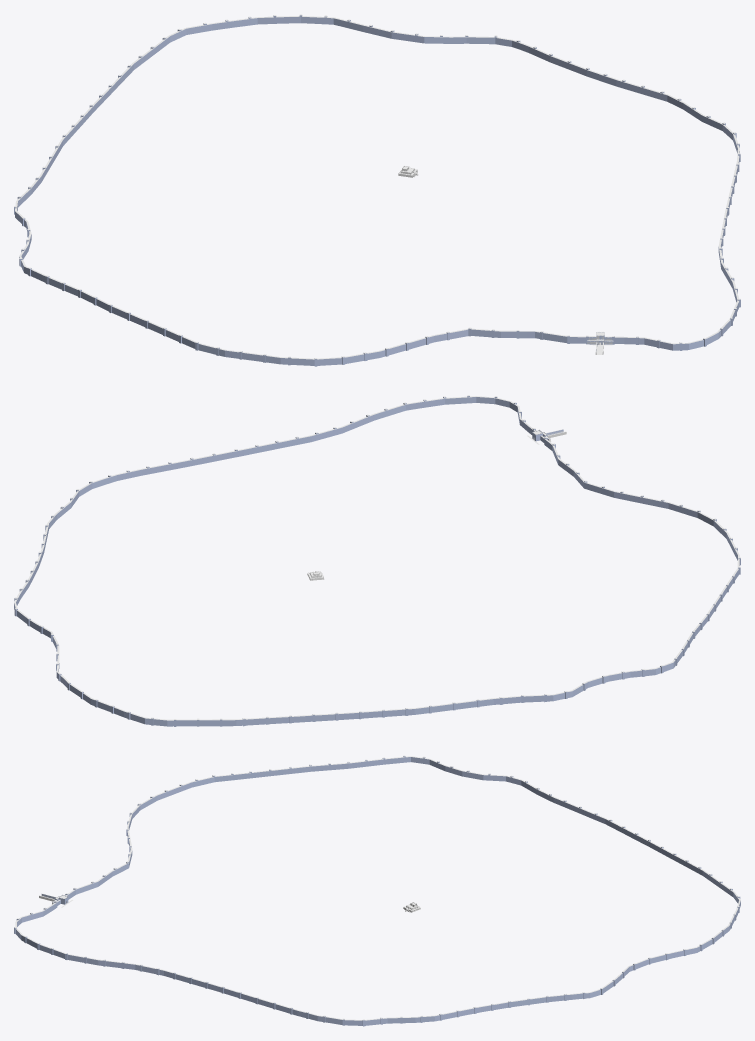
Rendered from uruk_walls_collision.glb.
3 renders of one model, top to bottom at view 1: azimuth 30°, elevation 25°; view 2: azimuth 150°, elevation 25°; view 3: azimuth 270°, elevation 25°, orthographic. The views are drawn at different scales.
Visible parts, largest first — view 1: uruk_walls_collision; view 2: uruk_walls_collision; view 3: uruk_walls_collision.
Part boxes in pixels (left/top/right/bottom): uruk_walls_collision: left=14, top=14, right=740, bottom=366; uruk_walls_collision: left=14, top=395, right=740, bottom=726; uruk_walls_collision: left=14, top=755, right=740, bottom=1026.
Size of the model in its own units: 2619 by 43.38 by 3034.
